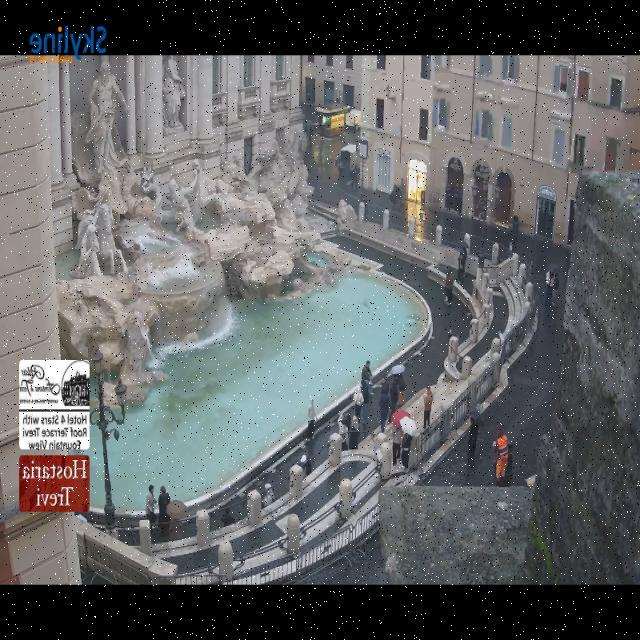person: (494, 430, 507, 482), (157, 486, 170, 535), (360, 379, 371, 432), (379, 382, 389, 432), (388, 377, 398, 422), (338, 413, 350, 450), (468, 416, 479, 455), (400, 433, 411, 471), (352, 386, 363, 423), (145, 485, 155, 524), (423, 386, 432, 428), (306, 398, 315, 439), (392, 426, 401, 465), (261, 483, 274, 508), (444, 268, 453, 304), (348, 417, 358, 449), (396, 373, 405, 408), (300, 454, 312, 477), (457, 250, 465, 284), (544, 271, 552, 303), (511, 216, 518, 252), (220, 508, 234, 525), (360, 360, 371, 381), (551, 273, 558, 305), (360, 192, 367, 221), (454, 185, 461, 214), (352, 164, 359, 190), (307, 125, 311, 147)
